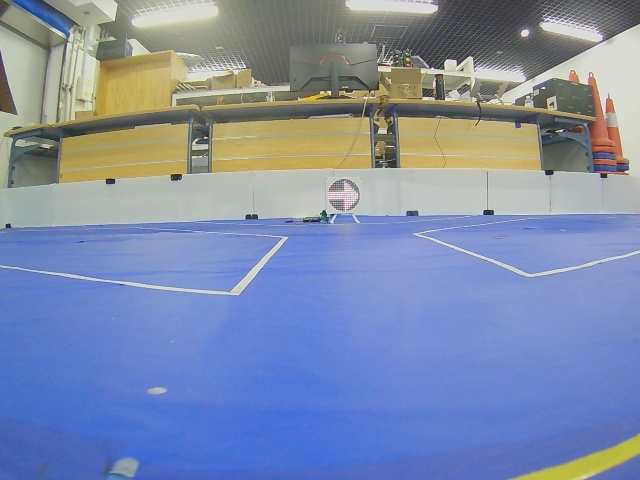right_yellow: (327, 179, 360, 212)
